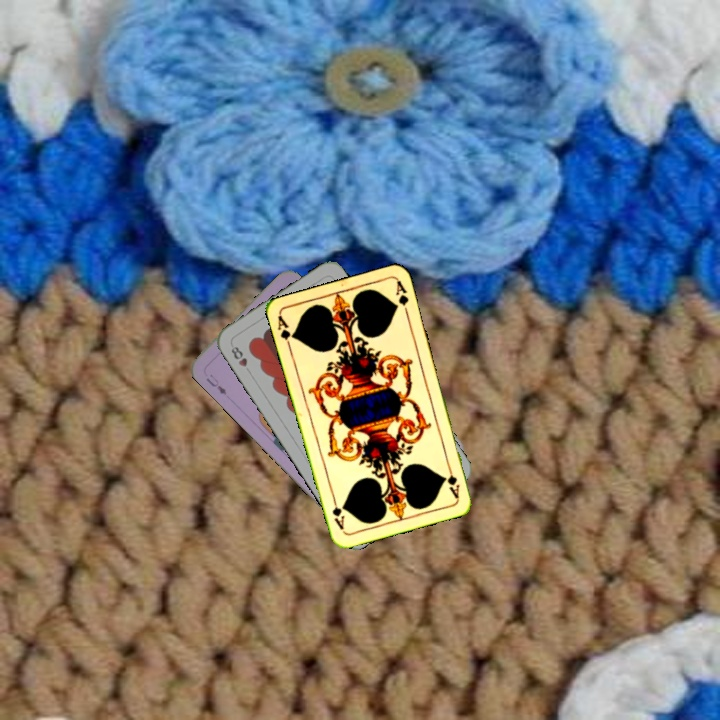EU: (202, 370, 229, 397)
GA: (274, 312, 297, 352), (443, 460, 463, 501)
H8: (227, 342, 254, 377)
